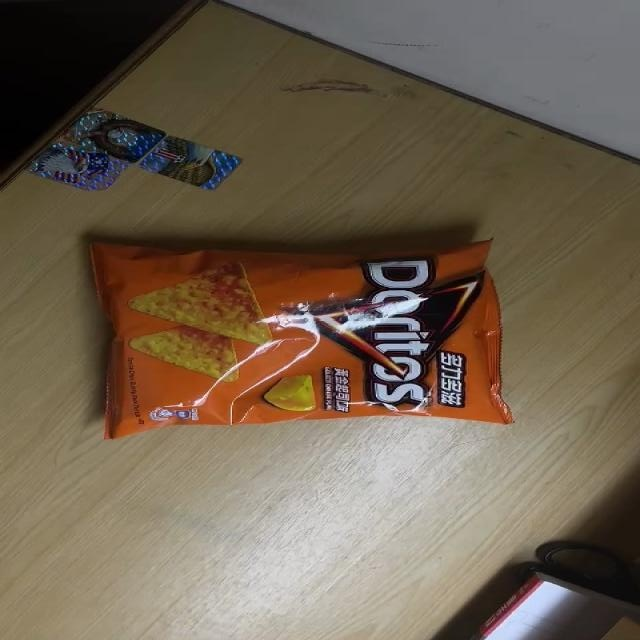Doritos: (88, 236, 516, 441)
